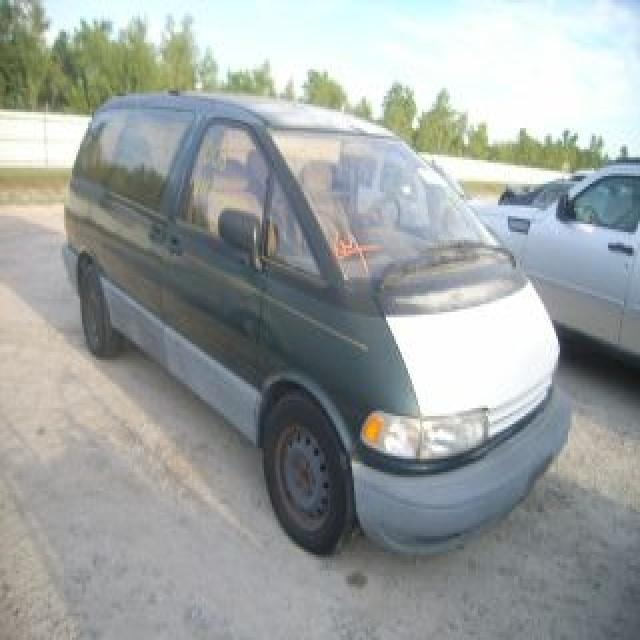Van: (60, 91, 574, 557)
